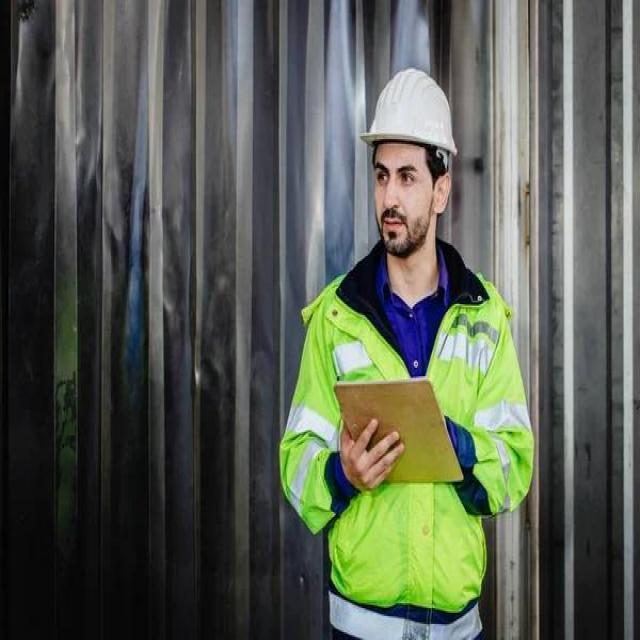reflective_jacket: (280, 266, 536, 624)
safety_helmet: (357, 61, 460, 165)
